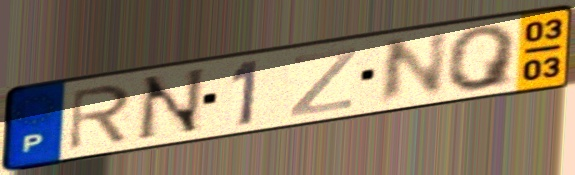1: (227, 57, 262, 129)
N: (373, 27, 451, 109), (131, 65, 209, 146)
Q: (445, 22, 521, 94)
R: (66, 82, 135, 154)
Z: (286, 44, 361, 120)
